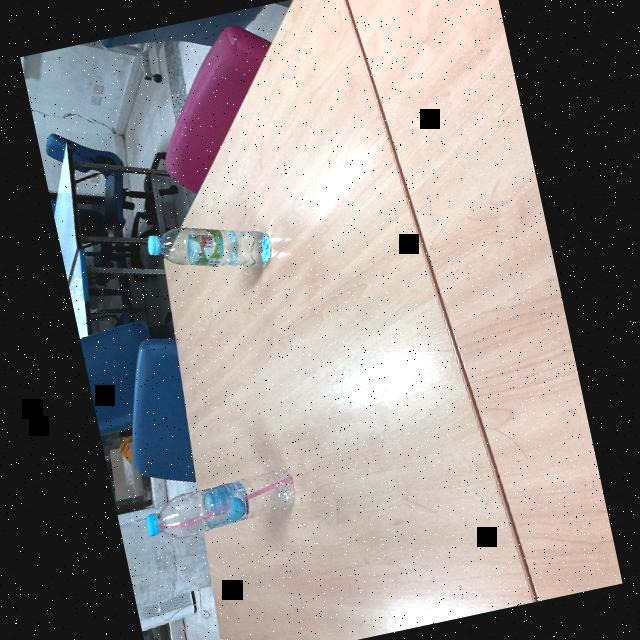plastic_bottle: (134, 463, 300, 548), (140, 209, 275, 287)
